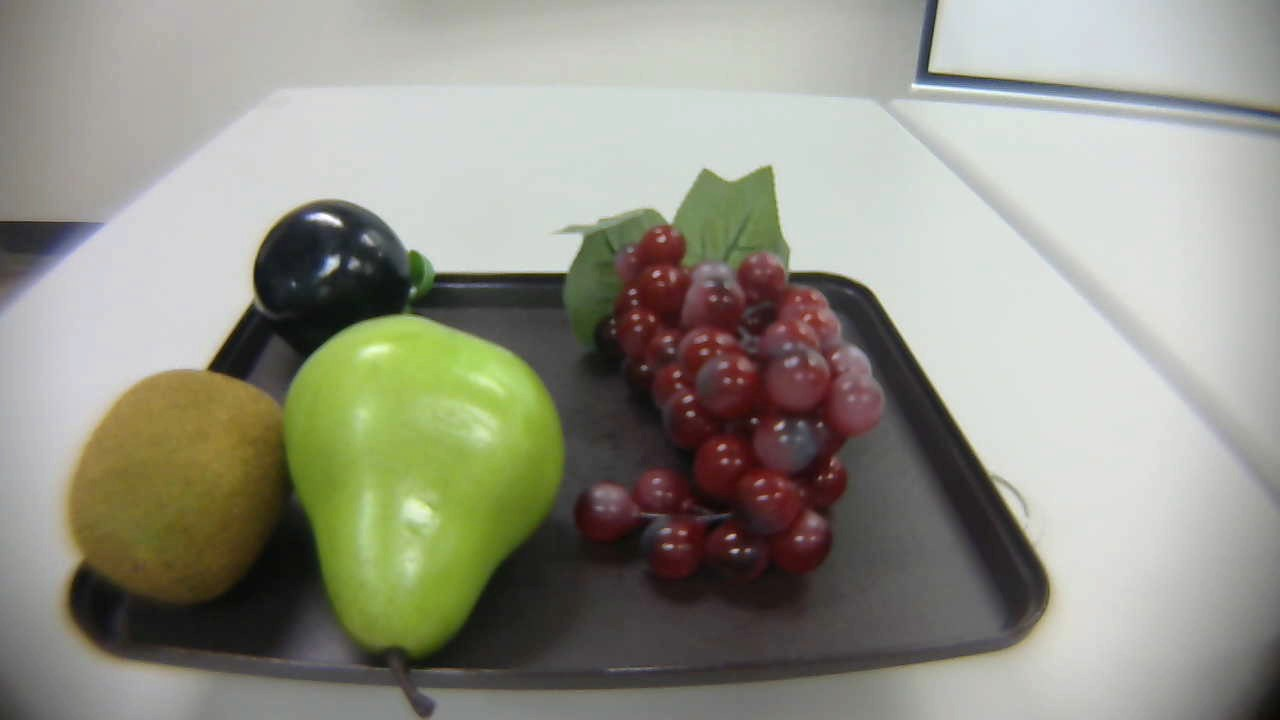grape: (553, 158, 898, 596)
green pear: (273, 314, 570, 718)
kiwi fruit: (52, 358, 308, 619)
mangosteen: (232, 196, 438, 358)
